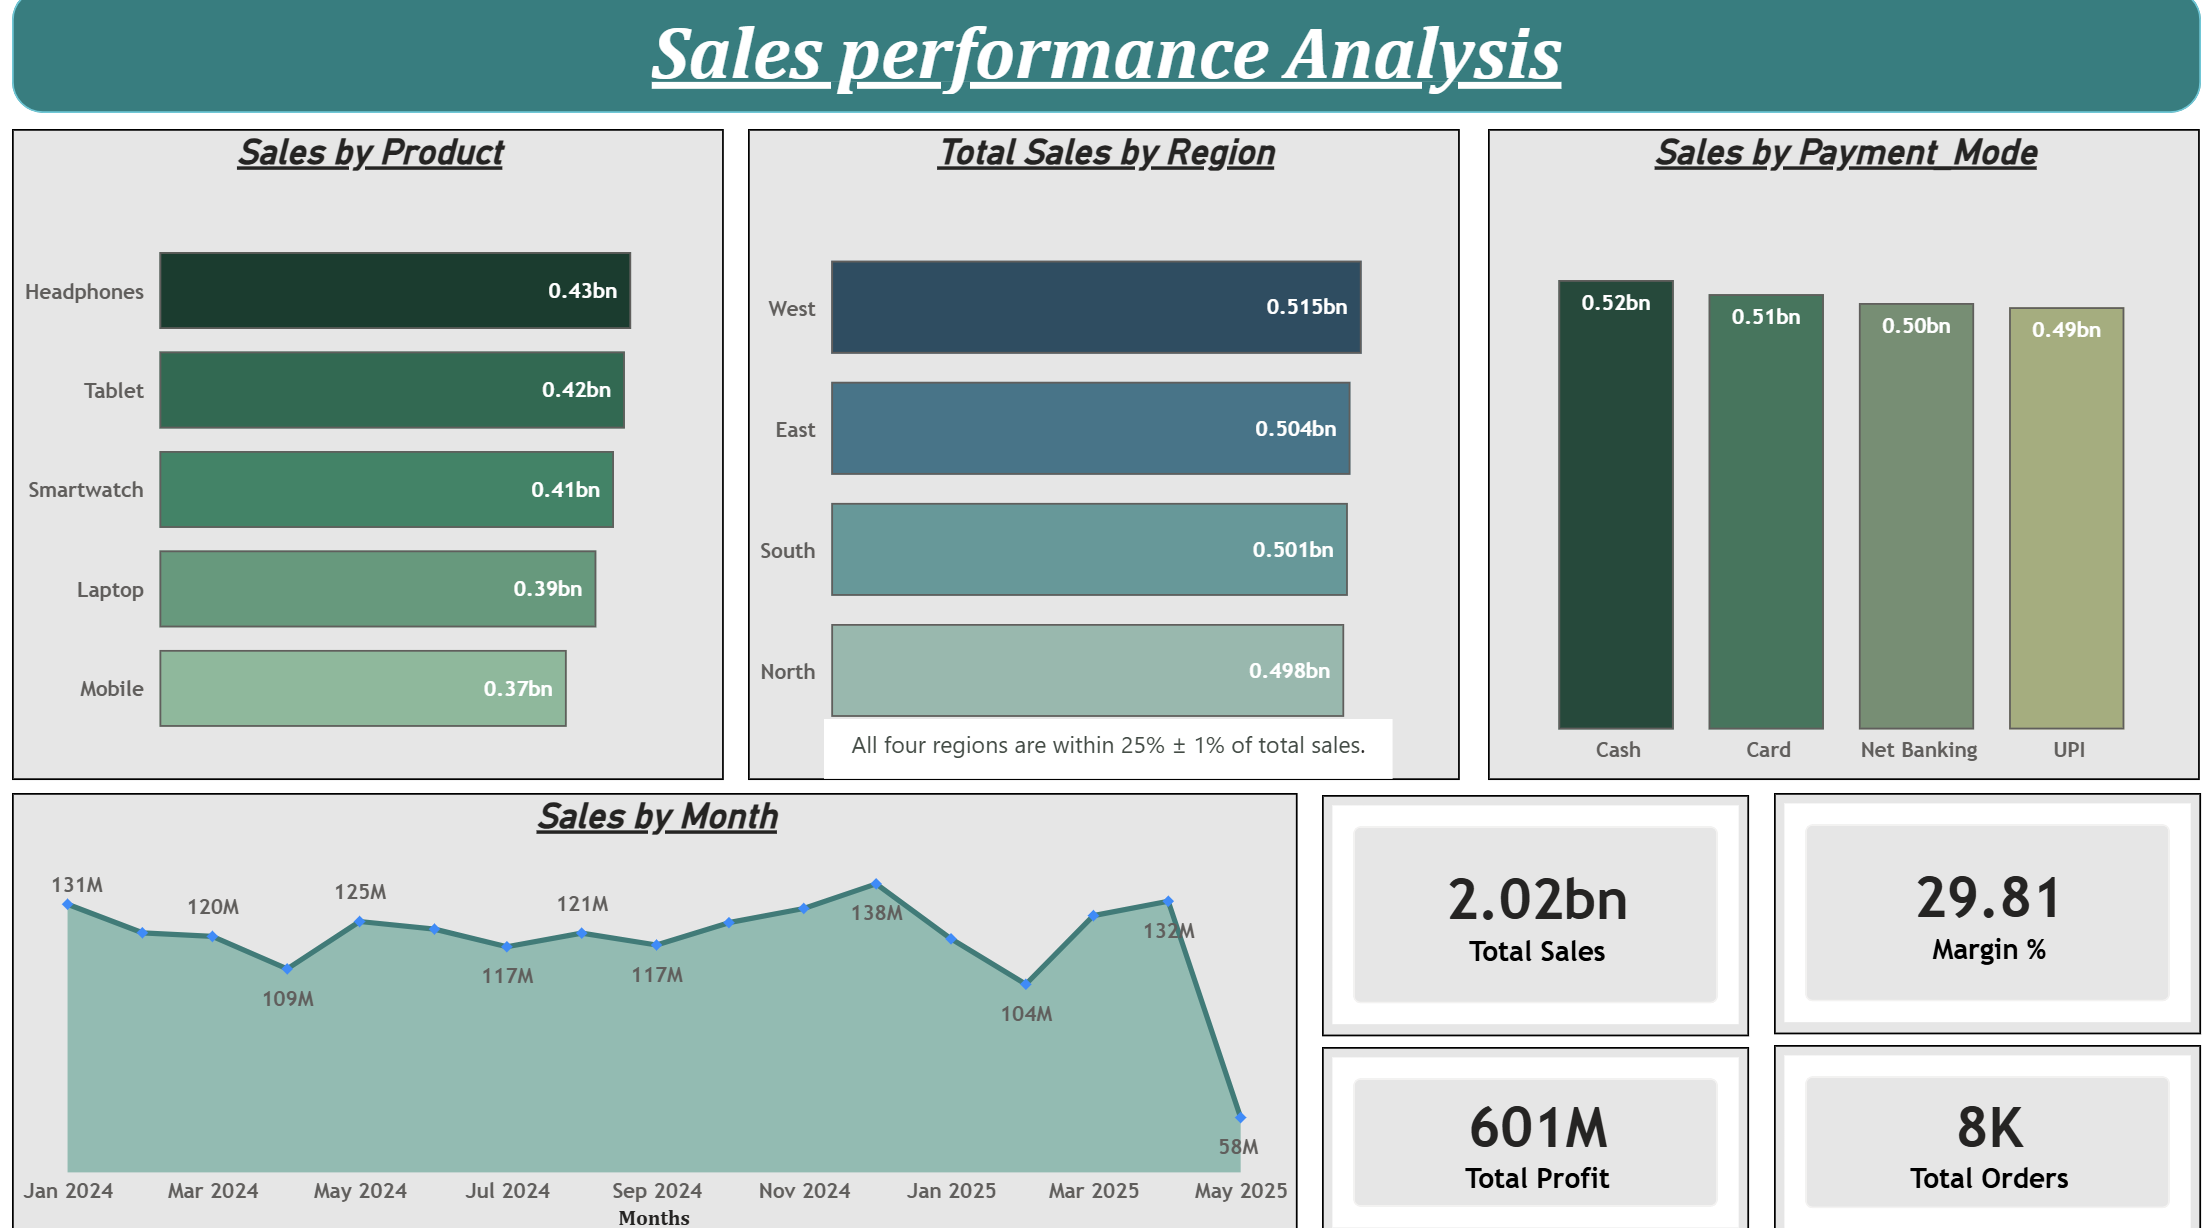

The page's visual inventory and layout, read from the dashboard file:
{"tool":"powerbi","page":{"name":"L1 | T1","canvas":[1280,720],"ordinal":0},"visuals":[{"type":"shape","box":[10.2,0,1260.9,71.4],"z":0},{"type":"cardVisual","fields":{"Data":["Sales_data.Total Sales"]},"box":[764.9,464.1,246,139],"z":1000},{"type":"barChart","title":"Sales by Product","fields":{"Category":["Sales_data.Product"],"Y":["Measures Table 1.Total Sales"]},"box":[10.2,80.3,410,374.8],"z":2000},{"type":"clusteredBarChart","title":"Total Sales by Region","fields":{"Category":["Sales_data.Region"],"Y":["Measures Table 1.Total Sales"]},"box":[434.7,80.3,410,374.8],"z":3000},{"type":"textbox","box":[478.1,420.7,327.6,34.4],"z":4000},{"type":"cardVisual","fields":{"Data":["Measures Table 1.Total Profit"]},"box":[764.9,609.4,246,110.9],"z":5000},{"type":"cardVisual","fields":{"Data":["Measures Table 1.Margin %"]},"box":[1025,462.8,246.1,139],"z":6000},{"type":"cardVisual","fields":{"Data":["Measures Table 1.Total Orders"]},"box":[1025,608.1,246.1,112.2],"z":7000},{"type":"lineChart","title":"Sales by Month","fields":{"Category":["Sales_data.Month Start.Variation.Date Hierarchy.Year","Sales_data.Month Start.Variation.Date Hierarchy.Month"],"Y":["Measures Table 1.Total Sales"]},"box":[10.2,462.8,740.7,257.5],"z":8000},{"type":"columnChart","title":"Sales by Payment_Mode","fields":{"Category":["Sales_data.Payment_Mode"],"Y":["Measures Table 1.Total Sales"]},"box":[860.6,80.3,410,374.8],"z":9000}]}

Visuals, with their boxes in screenshot pixels (x1, y1, x2, y2), scaled from the page's 1280x720 canvas onto the 2212x1228 screenshot:
shape: <bbox>18, 0, 2197, 122</bbox>
cardVisual - Sales_data.Total Sales: <bbox>1322, 792, 1747, 1029</bbox>
"Sales by Product" barChart: <bbox>18, 137, 726, 776</bbox>
"Total Sales by Region" clusteredBarChart: <bbox>751, 137, 1460, 776</bbox>
textbox: <bbox>826, 718, 1392, 776</bbox>
cardVisual - Measures Table 1.Total Profit: <bbox>1322, 1039, 1747, 1227</bbox>
cardVisual - Measures Table 1.Margin %: <bbox>1771, 789, 2197, 1026</bbox>
cardVisual - Measures Table 1.Total Orders: <bbox>1771, 1037, 2197, 1227</bbox>
"Sales by Month" lineChart: <bbox>18, 789, 1298, 1227</bbox>
"Sales by Payment_Mode" columnChart: <bbox>1487, 137, 2196, 776</bbox>
